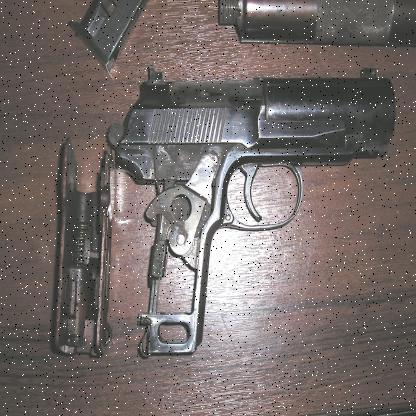pistol: (114, 67, 396, 354)
